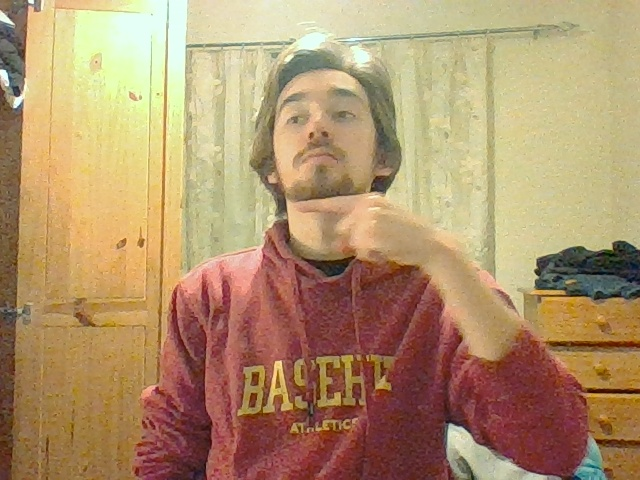son: (294, 192, 397, 251)
